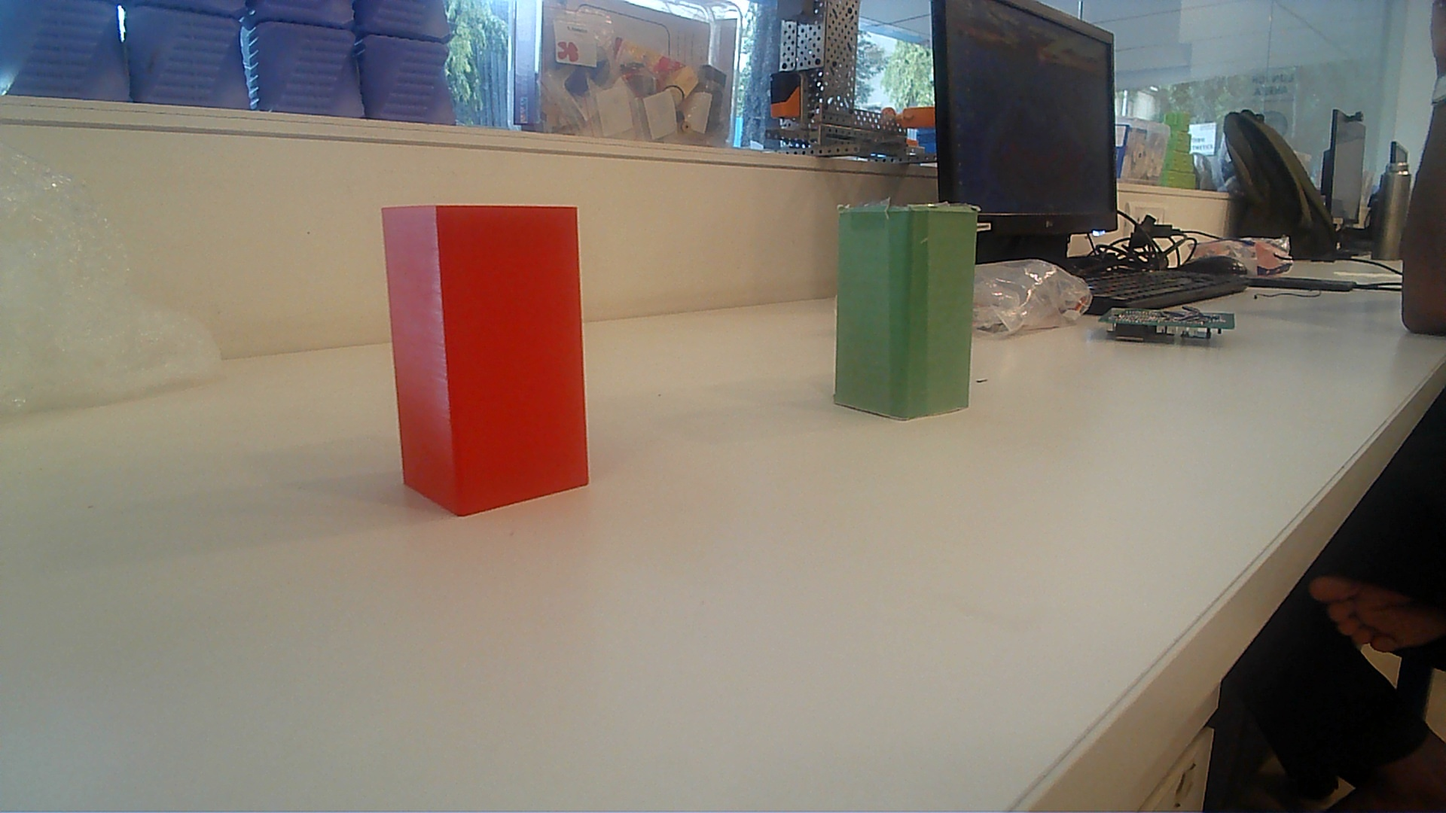red: (376, 187, 593, 538)
